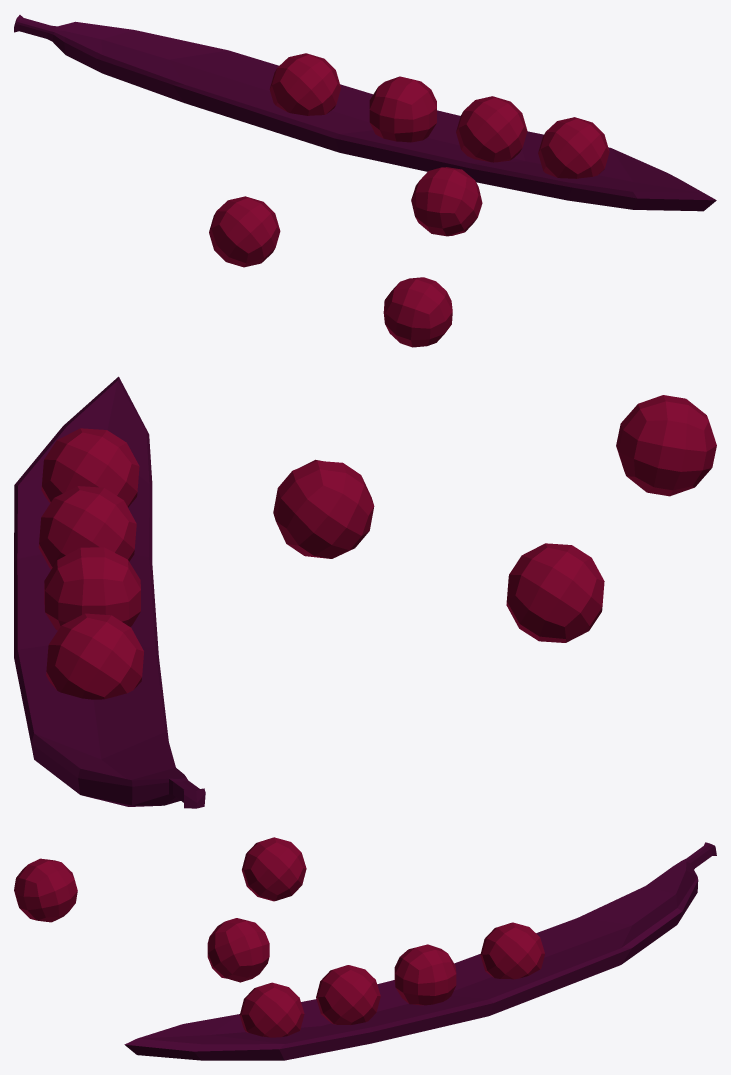
File: Peas_01.fbx
3 views of the same model, one above another, from view 1: azimuth 30°, elevation 25°; view 2: azimuth 150°, elevation 25°; view 3: azimuth 270°, elevation 25° (orthographic). The views are drawn at different scales.
Parts seen in each view (by area): view 1: Peas_01; view 2: Peas_01; view 3: Peas_01.
Part boxes in pixels (box(x1,y1,x2,y2)): Peas_01: box(14, 15, 716, 347); Peas_01: box(14, 376, 716, 808); Peas_01: box(14, 837, 716, 1060).
Size of the model in its own units: 5.06 by 0.8615 by 8.06.
